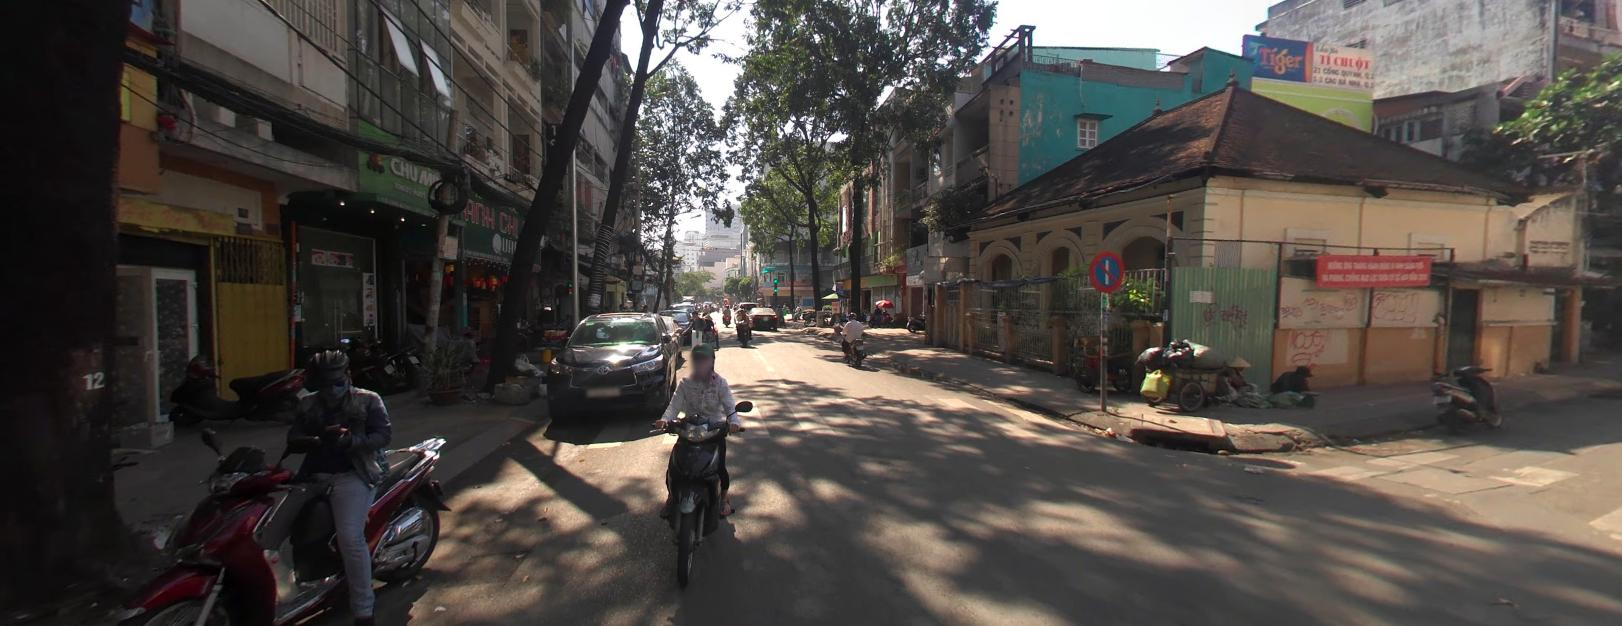Cam dung va do: (1090, 250, 1124, 290)
